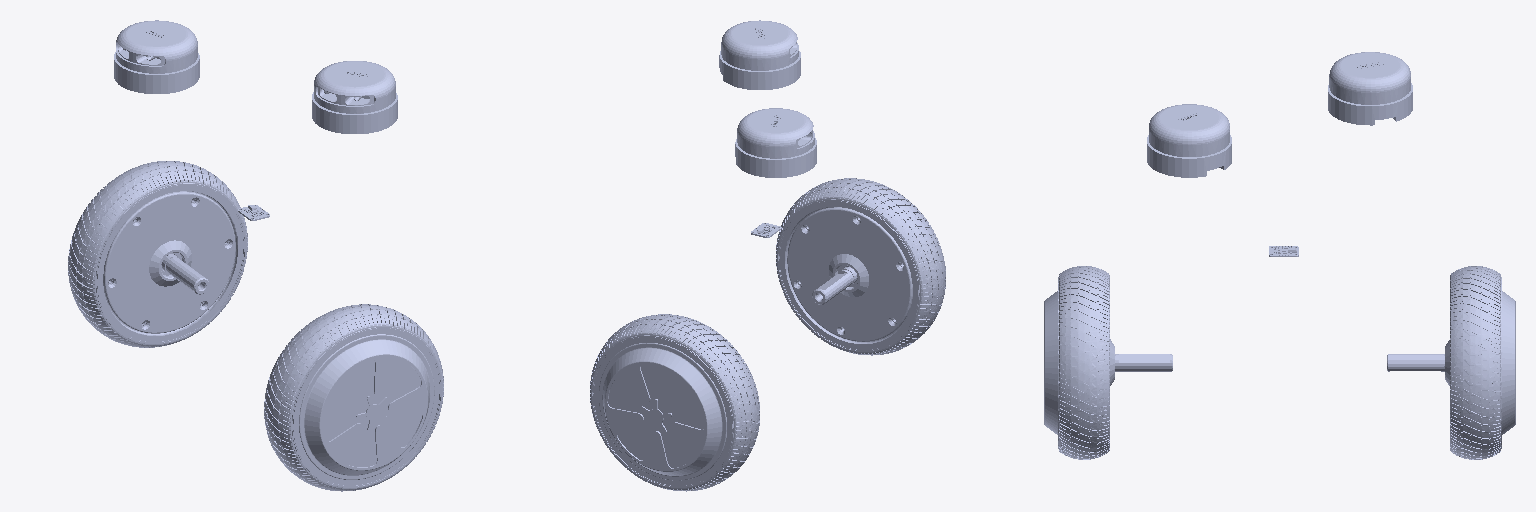
URDF robot description (view_robot_pkg):
<?xml version="1.0" encoding="utf-8"?>
<robot name="view_robot_pkg">

  <link name="base_footprint"/>

  <joint name="base_footprint_joint" type="fixed">
    <origin xyz="0 0 0.1245" rpy="0 0 0"/>
    <parent link="base_footprint"/>
    <child  link="base_link"/>
  </joint>

  <link name="base_link">
    <inertial>
      <origin xyz="-0.00222279916996815 -0.000617639532060482 0.0762176855005104" rpy="0 0 0" />
      <mass value="3.02069115964051" />
      <inertia ixx="0.00585899027383538" ixy="2.91447315503347E-08" ixz="-3.41615530348293E-05" iyy="0.00516739544024496" iyz="1.25606135314163E-05" izz="0.00825374828046794" />
    </inertial>
    <visual>
      <origin xyz="0 0 0" rpy="0 0 3.14159" />
      <geometry>
        <mesh filename="package://view_robot_pkg/meshes/base_link.STL" />
      </geometry>
      <material name="">
        <color rgba="1 1 1 1" />
      </material>
    </visual>
    <collision>
      <origin xyz="0 0 0" rpy="0 0 3.14159" />
      <geometry>
        <mesh filename="package://view_robot_pkg/meshes/base_link.STL" />
      </geometry>
    </collision>
  </link>

  <link name="left_wheel_link">
    <inertial>
      <origin xyz="5.05176493303949E-06 -7.3552932913501E-06 0.0330151559341104" rpy="0 0 0" />
      <mass value="0.797124359312147" />
      <inertia ixx="0.0016716854044056" ixy="-4.53282337228837E-10" ixz="2.93117421318549E-08" iyy="0.00167163958414969" iyz="1.92378418547222E-07" izz="0.003091899982905" />
    </inertial>
    <visual>
      <origin xyz="0 0 0" rpy="0 0 0" />
      <geometry>
        <mesh filename="package://view_robot_pkg/meshes/left_wheel_link.STL" />
      </geometry>
      <material name="">
        <color rgba="0.792156862745098 0.819607843137255 0.933333333333333 1" />
      </material>
    </visual>
    <collision>
      <origin xyz="0 0 0" rpy="0 3.14159 0" />
      <geometry>
        <mesh filename="package://view_robot_pkg/meshes/left_wheel_link.STL" />
      </geometry>
    </collision>
  </link>

  <joint name="left_wheel_joint" type="continuous">
    <origin xyz="-0.000232900155365812 0.208375350945053 -0.0422498834238306" rpy="-1.5707963267949 0 0" />
    <parent link="base_link" />
    <child link="left_wheel_link" />
    <axis xyz="0 0 1" />
    <limit effort="3.5" velocity="50" />
    <dynamics damping="0.1" friction="0.1" />
  </joint>

  <link name="right_wheel_link">
    <inertial>
      <origin xyz="6.96666132915524E-06 5.57550613417002E-06 -0.0330151558674452" rpy="0 0 0" />
      <mass value="0.797124356423207" />
      <inertia ixx="0.00167168180769342" ixy="-1.23326827480453E-08" ixz="2.77025917750749E-08" iyy="0.00167164318227266" iyz="1.92616631893258E-07" izz="0.00309189998415973" />
    </inertial>
    <visual>
      <origin xyz="0 0 0" rpy="0 0 0" />
      <geometry>
        <mesh filename="package://view_robot_pkg/meshes/right_wheel_link.STL" />
      </geometry>
      <material name="">
        <color rgba="0.792156862745098 0.819607843137255 0.933333333333333 1" />
      </material>
    </visual>
    <collision>
      <origin xyz="0 0 0" rpy="0 0 0" />
      <geometry>
        <mesh filename="package://view_robot_pkg/meshes/right_wheel_link.STL" />
      </geometry>
    </collision>
  </link>

  <joint name="rigth_wheel_joint" type="continuous">
    <origin xyz="-0.000332917090806184 -0.208424641208585 -0.0422498834238528" rpy="-1.5707963267949 0 0" />
    <parent link="base_link" />
    <child link="right_wheel_link" />
    <axis xyz="0 0 1" />
    <limit effort="3.5" velocity="50" />
    <dynamics damping="0.1" friction="0.1" />
  </joint>

  <link name="lidar_link">
    <inertial>
      <origin xyz="0.000431408383921195 0.00036555132026464 -0.0117014281792381" rpy="0 0 0" />
      <mass value="0.165382847444674" />
      <inertia ixx="7.73771733501693E-05" ixy="1.80540779630912E-06" ixz="-1.68568425867822E-06" iyy="7.66777855913359E-05" iyz="-1.39063324674905E-06" izz="0.00010994637923249" />
    </inertial>
    <visual>
      <origin xyz="0 0 0" rpy="0 0 3.14159" />
      <geometry>
        <mesh filename="package://view_robot_pkg/meshes/lidar1_link.STL" />
      </geometry>
      <material name="">
        <color rgba="0.792156862745098 0.819607843137255 0.933333333333333 1" />
      </material>
    </visual>
    <collision>
      <origin xyz="0 0 0" rpy="0 0 0" />
      <geometry>
        <mesh filename="package://view_robot_pkg/meshes/lidar1_link.STL" />
      </geometry>
    </collision>
  </link>

  <joint name="lidar_joint" type="fixed">
    <origin xyz="-0.0552330297437664 0.079925362714598 0.212599999999999" rpy="0 0 -3.14159" />
    <parent link="base_link" />
    <child link="lidar1_link" />
  </joint>

  <link name="lidar1_link">
    <inertial>
      <origin xyz="0.000520646047284856 0.00022060973439704 -0.0117014281792382" rpy="0 0 0" />
      <mass value="0.165382847444673" />
      <inertia ixx="7.83417458316874E-05" ixy="1.28752218727708E-06" ixz="-2.02332654973148E-06" iyy="7.57130074846262E-05" iyz="-8.26059645993461E-07" izz="0.000109946211605377" />
    </inertial>
    <visual>
      <origin xyz="0 0 0" rpy="0 0 0" />
      <geometry>
        <mesh filename="package://view_robot_pkg/meshes/lidar_link.STL" />
      </geometry>
      <material name="">
        <color rgba="0.792156862745098 0.819607843137255 0.933333333333333 1" />
      </material>
    </visual>
    <collision>
      <origin xyz="0 0 0" rpy="0 0 0" />
      <geometry>
        <mesh filename="package://view_robot_pkg/meshes/lidar_link.STL" />
      </geometry>
    </collision>
  </link>

  <joint name="lidar1_joint" type="fixed">
    <origin xyz="0.0542669702562306 -0.0800746372854032 0.212599999999999" rpy="0 0 0" />
    <parent link="base_link" />
    <child link="lidar_link" />
  </joint>

  <link name="imu_link">
    <inertial>
      <origin xyz="0.000105430027604214 0.000441875229320599 -0.00158675124558355" rpy="0 0 0" />
      <mass value="0.000983130183652032" />
      <inertia ixx="4.80453464098753E-08" ixy="-1.86463715352993E-11" ixz="-1.81575171900779E-12" iyy="2.72780814792224E-08" iyz="1.83135757569008E-11" izz="7.48563776021954E-08" />
    </inertial>
    <visual>
      <origin xyz="0 0 0" rpy="0 0 3.14159" />
      <geometry>
        <mesh filename="package://view_robot_pkg/meshes/imu_link.STL" />
      </geometry>
      <material name="">
        <color rgba="0.792156862745098 0.819607843137255 0.933333333333333 1" />
      </material>
    </visual>
    <collision>
      <origin xyz="0 0 0" rpy="0 0 3.14159" />
      <geometry>
        <mesh filename="package://view_robot_pkg/meshes/imu_link.STL" />
      </geometry>
    </collision>
  </link>

  <joint name="imu_joint" type="fixed">
    <origin xyz="-0.00032791316762637 0.00342536271456143 0.0682001126529617" rpy="0 0 0" />
    <parent link="base_link" />
    <child link="imu_link" />
  </joint>

</robot>

--- Render facts (derived) ---
Views: 3 orthographic renders of the robot side by side, from view 1: azimuth 30°, elevation 25°; view 2: azimuth 150°, elevation 25°; view 3: azimuth 270°, elevation 25°.
Robot: view_robot_pkg — 7 links, 6 joints (2 continuous, 4 fixed); root link base_footprint; default pose: every joint at zero.
Visible links, largest first — view 1: right_wheel_link, left_wheel_link, lidar1_link, lidar_link; view 2: left_wheel_link, right_wheel_link, lidar1_link, lidar_link; view 3: right_wheel_link, left_wheel_link, lidar_link, lidar1_link.
Boxes of the visible links, x1,y1,x2,y2 form: right_wheel_link: (264, 304, 443, 491); left_wheel_link: (68, 161, 247, 347); lidar1_link: (114, 20, 199, 93); lidar_link: (312, 61, 397, 133); left_wheel_link: (590, 314, 759, 491); right_wheel_link: (776, 178, 945, 355); lidar1_link: (735, 108, 816, 177); lidar_link: (719, 20, 800, 89); right_wheel_link: (1044, 266, 1172, 459); left_wheel_link: (1387, 266, 1515, 459); lidar_link: (1147, 104, 1231, 177); lidar1_link: (1328, 52, 1412, 125).
Bounding box of the posed robot: 0.1855 × 0.4168 × 0.3508 m (x, y, z).
Meshes: 6 distinct files referenced, 5 mesh visuals loaded (5 binary STL); not drawn: 1 (reference not matched to a file when rendering).
